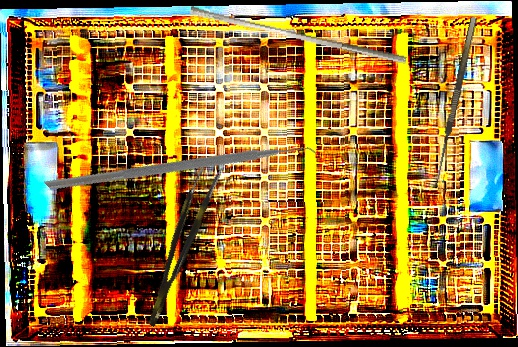Chopper: (43, 35, 328, 313)
Hook Surgical: (431, 16, 487, 191)
Pusher: (188, 6, 409, 64)
Tissue Forceps: (134, 166, 222, 329)
